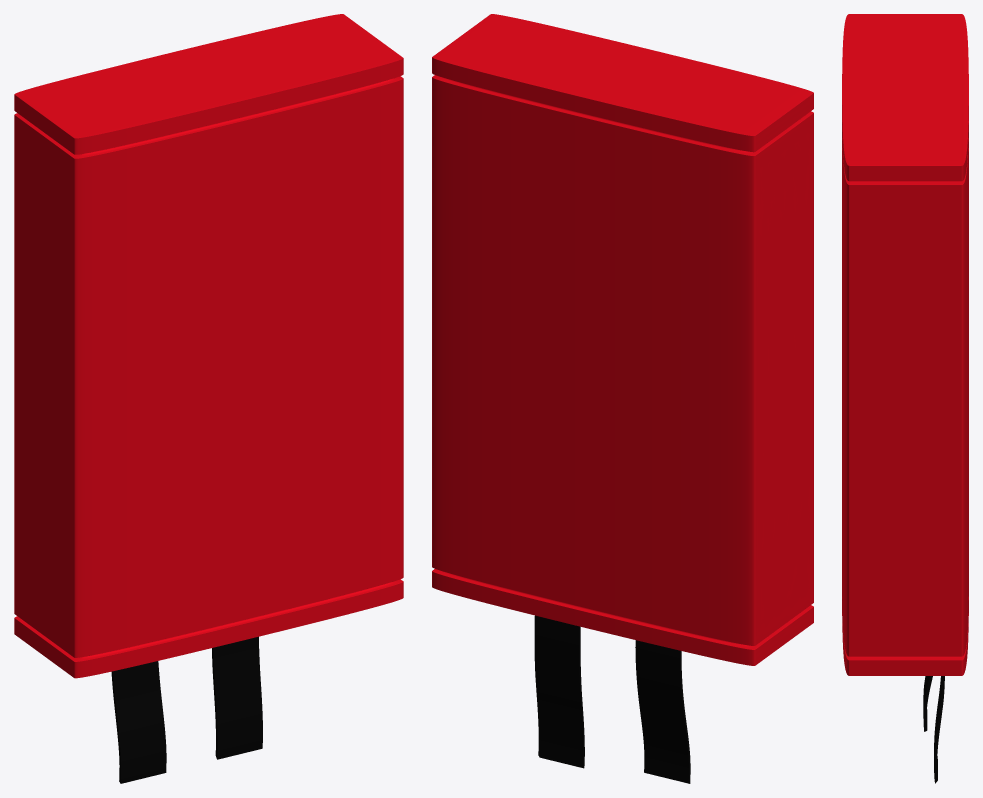
Rendered from fire-blanket.fbx.
3 renders of one model, left to right at view 1: azimuth 30°, elevation 25°; view 2: azimuth 150°, elevation 25°; view 3: azimuth 270°, elevation 25°, orthographic. The views are drawn at different scales.
Visible parts, largest first — view 1: Cube.059; view 2: Cube.059; view 3: Cube.059.
Part boxes in pixels (<box>): Cube.059: <box>14,14,403,783</box>; Cube.059: <box>432,14,813,783</box>; Cube.059: <box>842,14,968,783</box>.
Bounding box in the file's own units: 55.63 × 113 × 19.65.
